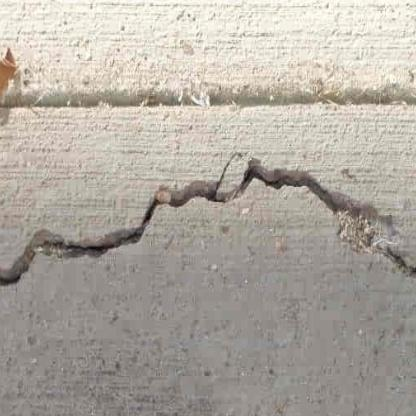Cracks: (0, 148, 416, 295)
